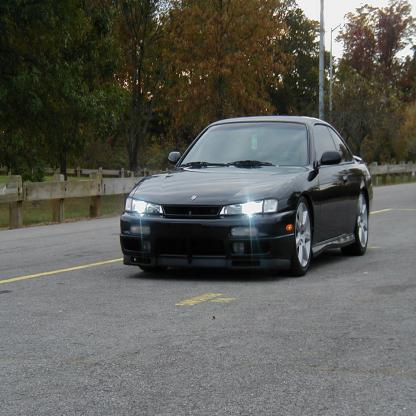car: (119, 113, 374, 274)
